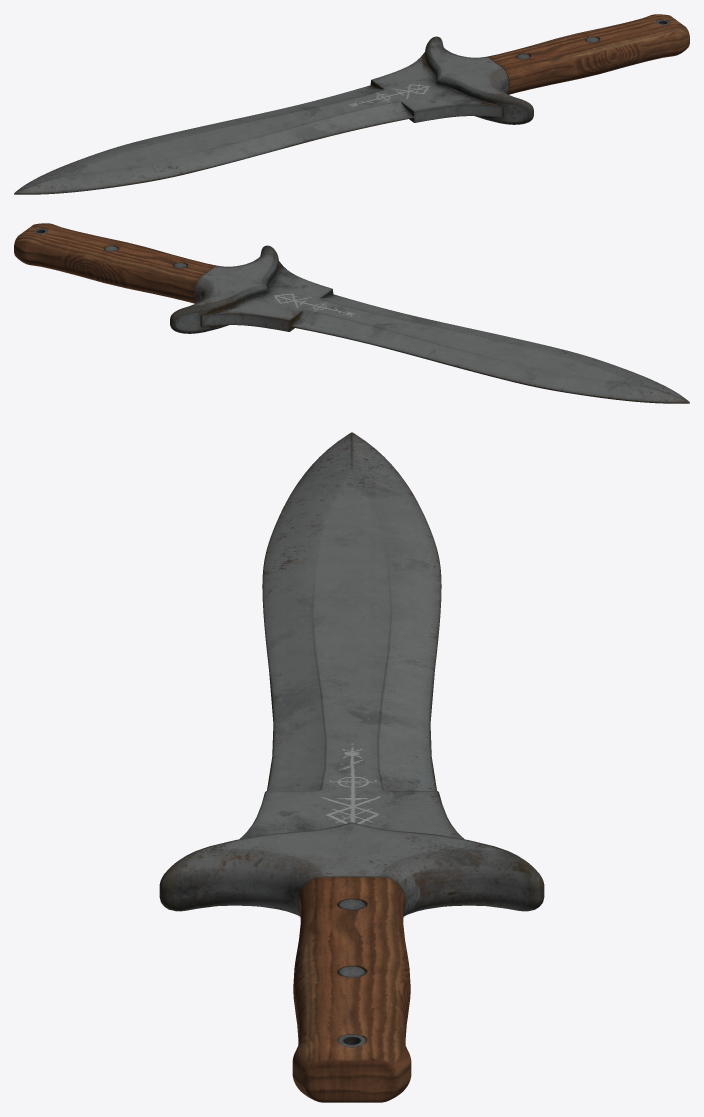
File: asset.glb
The picture shows the model from 3 angles, top to bottom: view 1: azimuth 30°, elevation 25°; view 2: azimuth 150°, elevation 25°; view 3: azimuth 270°, elevation 25°; orthographic projection. The views are drawn at different scales.
Parts seen in each view (by area): view 1: Extruded.003_1, Lofted.001_2, Extruded.002_0; view 2: Extruded.003_1, Lofted.001_2, Extruded.002_0; view 3: Extruded.003_1, Lofted.001_2, Extruded.002_0.
Boxes of the visible parts, x1,y1,x2,y2 form: Extruded.003_1: (14, 51, 503, 194); Lofted.001_2: (487, 14, 689, 94); Extruded.002_0: (425, 36, 533, 124); Extruded.003_1: (200, 260, 689, 403); Lofted.001_2: (14, 223, 216, 303); Extruded.002_0: (170, 245, 278, 333); Extruded.003_1: (239, 432, 464, 839); Lofted.001_2: (292, 877, 411, 1102); Extruded.002_0: (159, 822, 544, 916).
Size of the model in its own units: 4.07 by 0.1578 by 1.02.
Materials: 1 (1 with a texture image).
